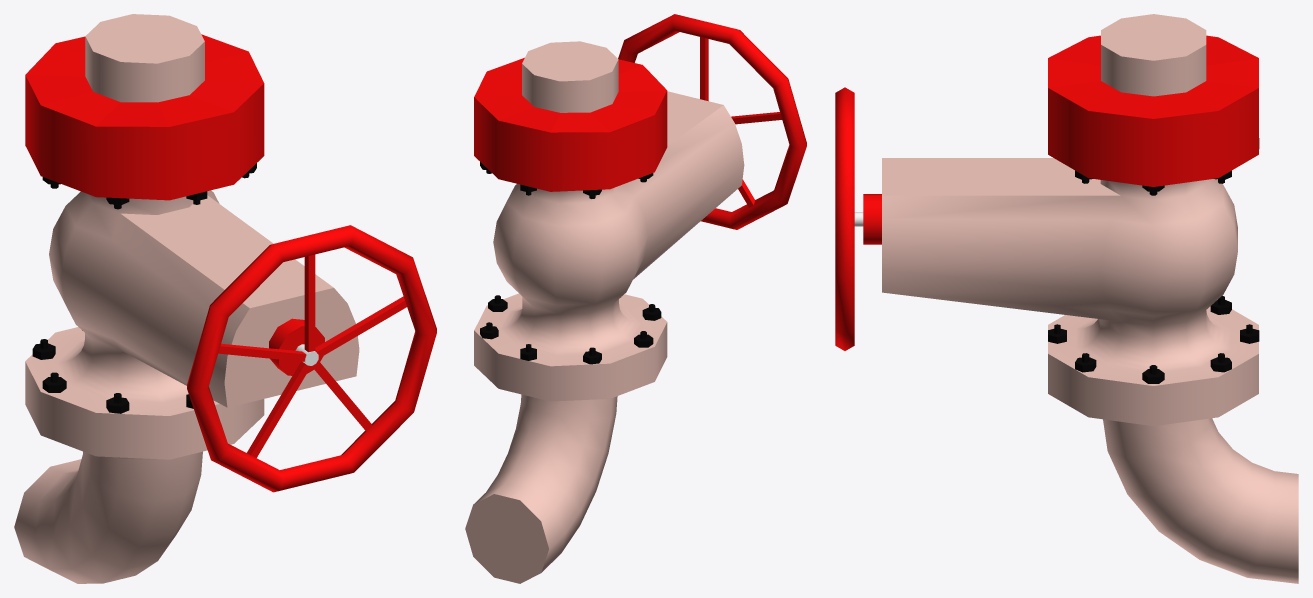
3 views of the same model, side by side, from view 1: azimuth 30°, elevation 25°; view 2: azimuth 150°, elevation 25°; view 3: azimuth 270°, elevation 25° (orthographic). The views are drawn at different scales.
Parts seen in each view (by area): view 1: factory_unit_41; view 2: factory_unit_41; view 3: factory_unit_41.
Part boxes in pixels (x1,y1,x2,y2): factory_unit_41: (14, 14, 436, 583); factory_unit_41: (465, 14, 806, 583); factory_unit_41: (835, 14, 1298, 583).
Bounding box in the file's own units: 50.99 × 114 × 88.79.
